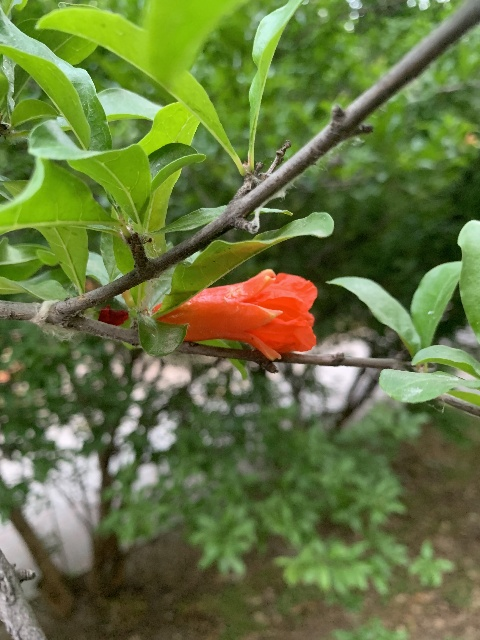flower: (154, 268, 320, 361)
